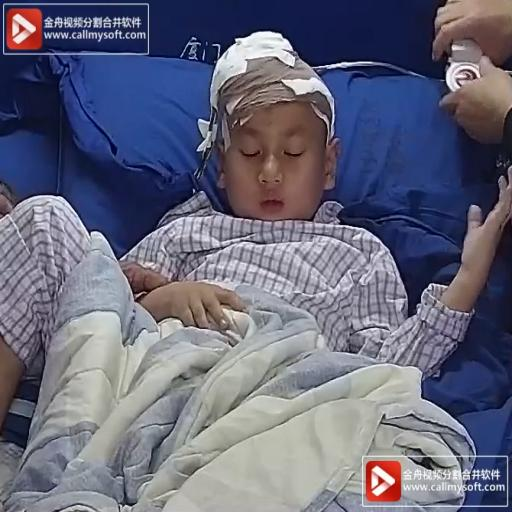Seizure: (200, 35, 350, 225)
